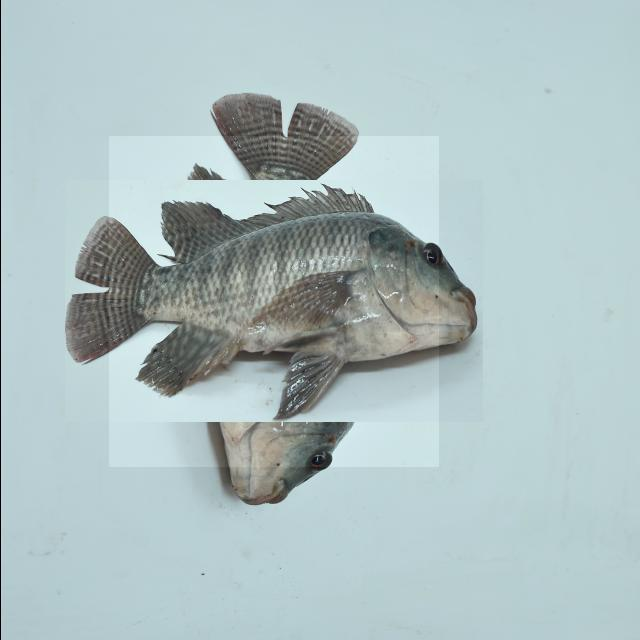Healthy Fish: (108, 136, 438, 467)
